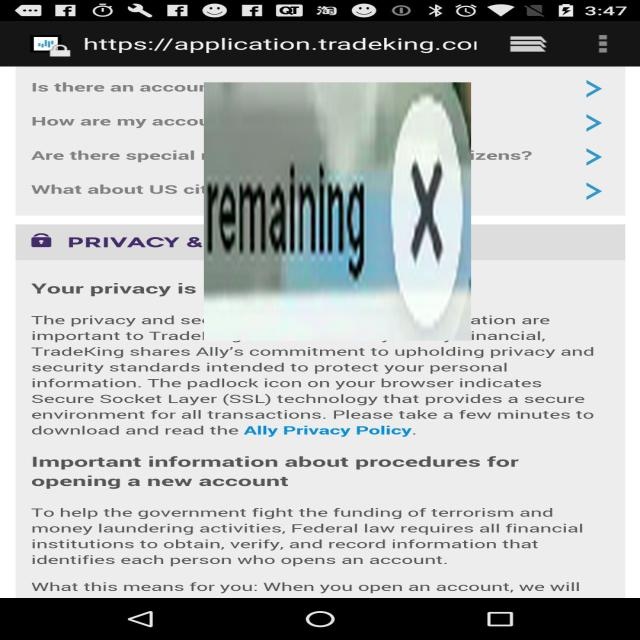misdirection: (204, 82, 471, 341)
